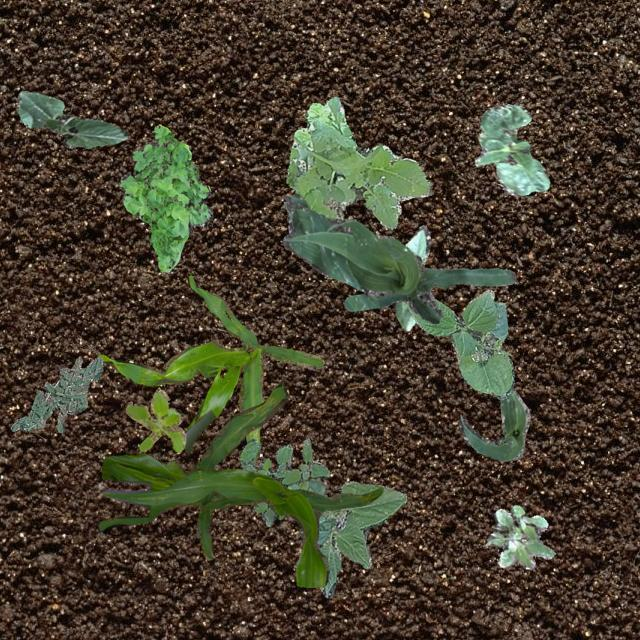crop: (98, 382, 382, 586), (98, 274, 324, 460), (282, 192, 514, 322), (286, 478, 406, 596), (403, 288, 512, 398), (474, 102, 548, 194), (18, 90, 126, 148), (458, 388, 530, 460), (392, 224, 430, 330)
weed: (284, 95, 432, 228), (118, 124, 212, 270), (240, 438, 328, 526), (9, 356, 102, 432), (484, 504, 554, 568), (124, 388, 184, 452)
